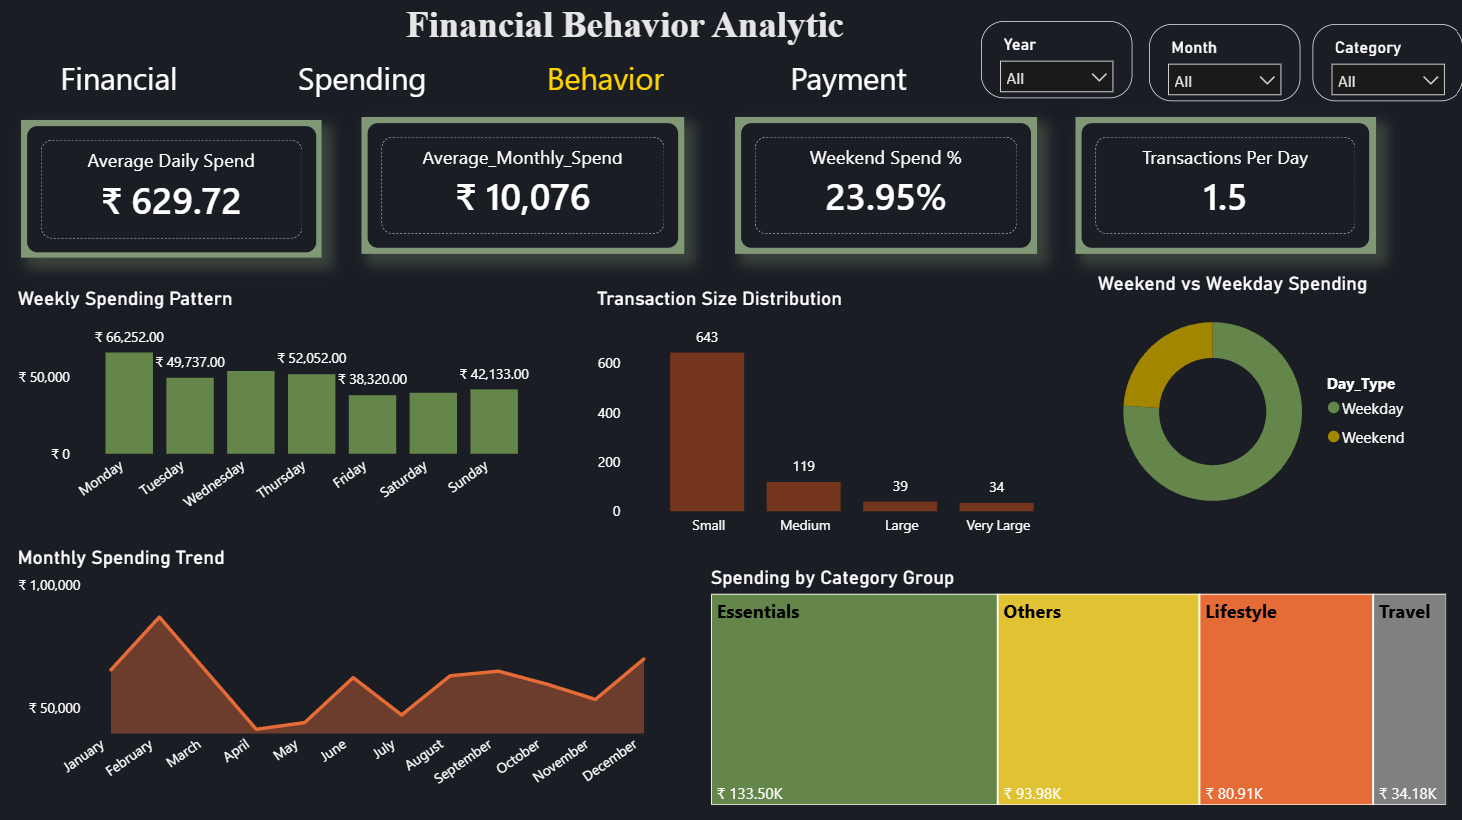

What the dashboard file says about the page in this screenshot:
{"tool":"powerbi","page":{"name":"Behavior","canvas":[1280,720],"ordinal":2},"visuals":[{"type":"textbox","box":[21.2,0,1258.3,57.5],"z":0},{"type":"cardVisual","fields":{"Data":["Sheet1.Average Daily Spend"]},"box":[18.9,107.7,262,120],"z":1000},{"type":"cardVisual","title":"T","fields":{"Data":["Sheet1.Average_Monthly_Spend"]},"box":[315,104.5,281.6,119.6],"z":2000},{"type":"cardVisual","title":"T","fields":{"Data":["Sheet1.Weekend Spend %"]},"box":[640.5,104.5,263.5,119.6],"z":3000},{"type":"cardVisual","title":"T","fields":{"Data":["Sheet1.Transactions Per Day"]},"box":[937.3,104.5,262,119.6],"z":4000},{"type":"slicer","fields":{"Values":["Sheet1.Year"]},"box":[855.7,21.6,132.3,67.6],"z":5000},{"type":"slicer","fields":{"Values":["Sheet1.Month"]},"box":[1000.9,23,132.3,67.6],"z":6000},{"type":"slicer","fields":{"Values":["Sheet1.Category"]},"box":[1144.7,23,132.3,67.6],"z":7000},{"type":"clusteredColumnChart","title":"Weekly Spending Pattern","fields":{"Y":["Sum(Sheet1.Amount_Abs)"],"Category":["Sheet1 (2).Day_Name"]},"box":[10.6,252.9,467.9,210.5],"z":8000},{"type":"clusteredColumnChart","title":"Transaction Size Distribution","fields":{"Category":["Sheet1.Transaction_Size"],"Y":["CountNonNull(Sheet1.Transaction_ID)"]},"box":[514.8,252.9,427,225.6],"z":9000},{"type":"donutChart","title":"Weekend vs Weekday Spending","fields":{"Category":["Sheet1.Day_Type"],"Y":["Sum(Sheet1.Amount_Abs)"]},"box":[952.4,239.2,287.7,224.1],"z":10000},{"type":"lineChart","title":"Monthly Spending Trend","fields":{"Category":["Sheet1.Month_Year.Variation.Date Hierarchy.Month"],"Y":["Sum(Sheet1.Amount_Abs)"]},"box":[10.6,478.5,572.4,230.2],"z":11000},{"type":"treemap","title":"Spending by Category Group","fields":{"Group":["Sheet1.Category_Group"],"Values":["Sum(Sheet1.Amount_Abs)"]},"box":[614.8,495.1,651.1,213.5],"z":12000},{"type":"pageNavigator","box":[3,45.4,841,48.5],"z":13000}]}

Visuals, with their boxes in screenshot pixels (x1, y1, x2, y2), scaled from the page's 1280x720 canvas onto the 1462x820 screenshot:
textbox: detection(24, 0, 1461, 65)
cardVisual - Sheet1.Average Daily Spend: detection(22, 123, 321, 259)
"T" cardVisual: detection(360, 119, 681, 255)
"T" cardVisual: detection(732, 119, 1033, 255)
"T" cardVisual: detection(1071, 119, 1370, 255)
slicer - Sheet1.Year: detection(977, 25, 1128, 102)
slicer - Sheet1.Month: detection(1143, 26, 1294, 103)
slicer - Sheet1.Category: detection(1307, 26, 1459, 103)
"Weekly Spending Pattern" clusteredColumnChart: detection(12, 288, 547, 528)
"Transaction Size Distribution" clusteredColumnChart: detection(588, 288, 1076, 545)
"Weekend vs Weekday Spending" donutChart: detection(1088, 272, 1416, 528)
"Monthly Spending Trend" lineChart: detection(12, 545, 666, 807)
"Spending by Category Group" treemap: detection(702, 564, 1446, 807)
pageNavigator: detection(3, 52, 964, 107)
